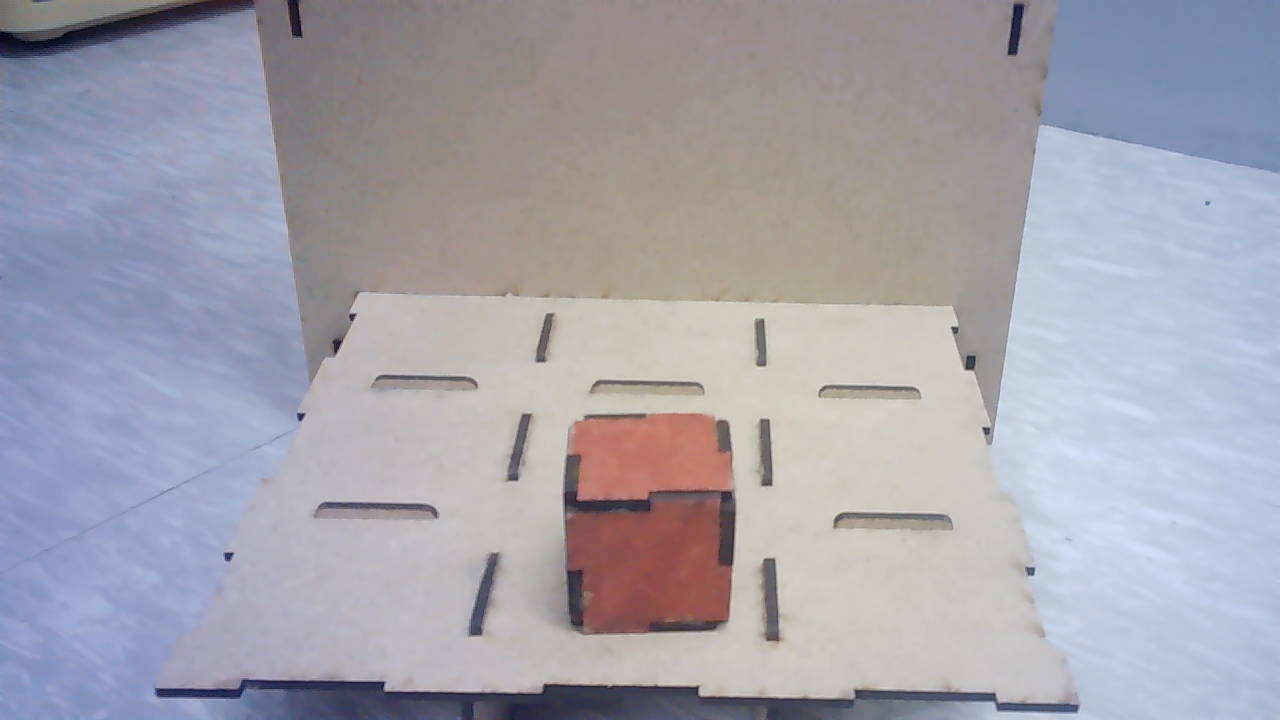red: (562, 410, 736, 637)
